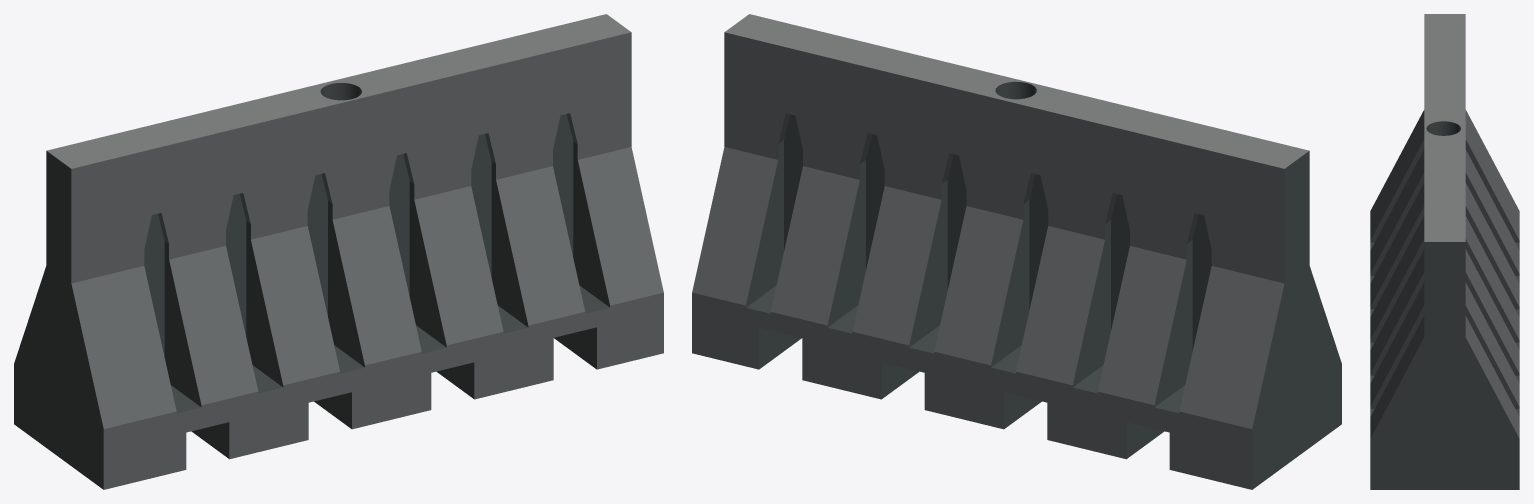
The model's file is SpartiTrafficoBianco.fbx.
3 views of the same model, side by side, from view 1: azimuth 30°, elevation 25°; view 2: azimuth 150°, elevation 25°; view 3: azimuth 270°, elevation 25° (orthographic). The views are drawn at different scales.
Parts seen in each view (by area): view 1: pCube2; view 2: pCube2; view 3: pCube2.
Boxes of the visible parts, <box> form: pCube2: <box>14,14,663,489</box>; pCube2: <box>692,14,1341,489</box>; pCube2: <box>1370,14,1519,489</box>.
Bounding box in the file's own units: 365 × 185 × 101.
